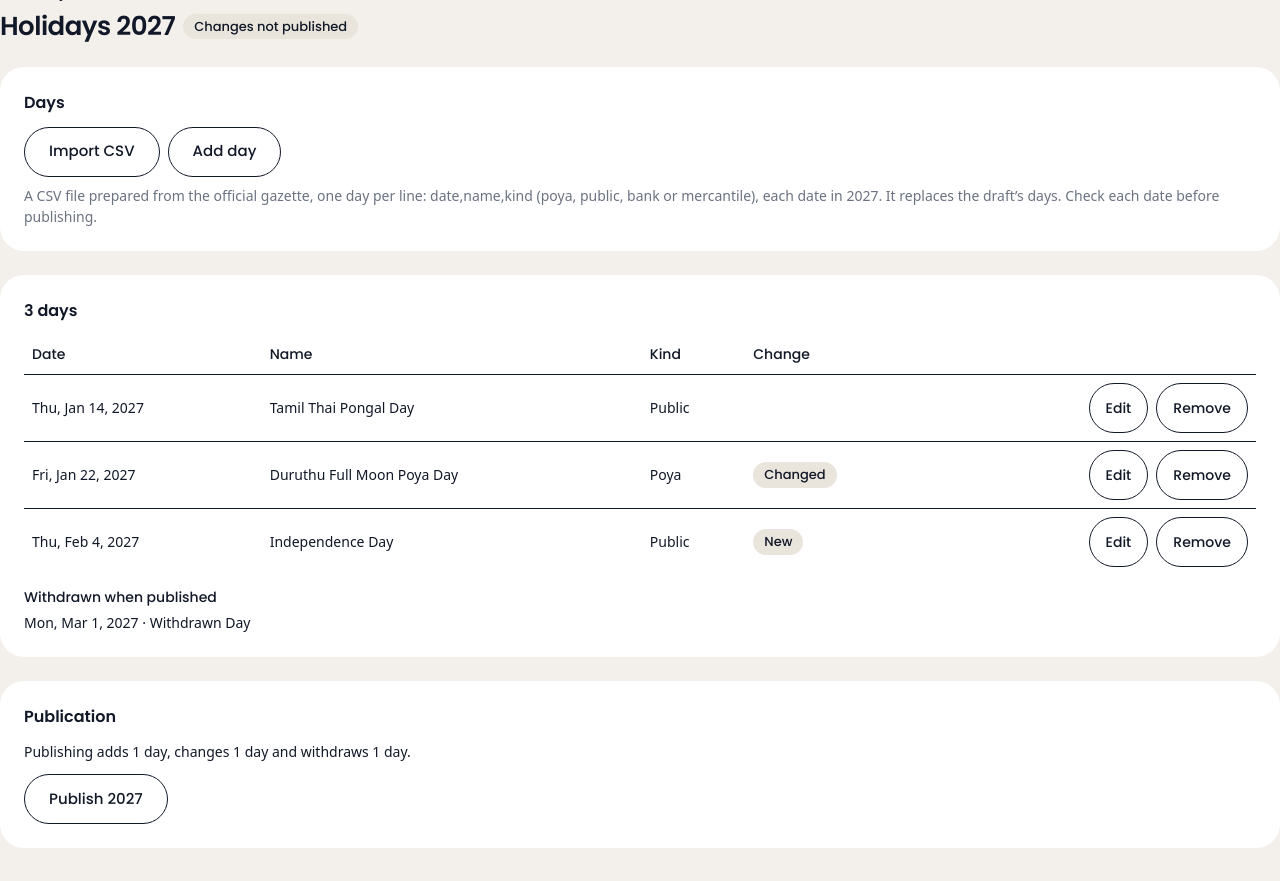
Test: the console holiday calendar (F04-S03) › shows the days in a table, what a publication changes, and publishes after the confirmation
The width and height of the screenshot is (1280, 881).
Expected: the number of rows with test id "console-holiday-day" is 3, [24,374,1256,442]; [24,442,1256,508]; [24,508,1256,575]
Expected: the text with test id "console-holiday-counts" reads "Publishing adds 1 day, changes 1 day and withdraws 1 day.", [24,742,411,761]
Click the button with test id "console-holiday-publish" at (96, 799), box [24,774,168,824]
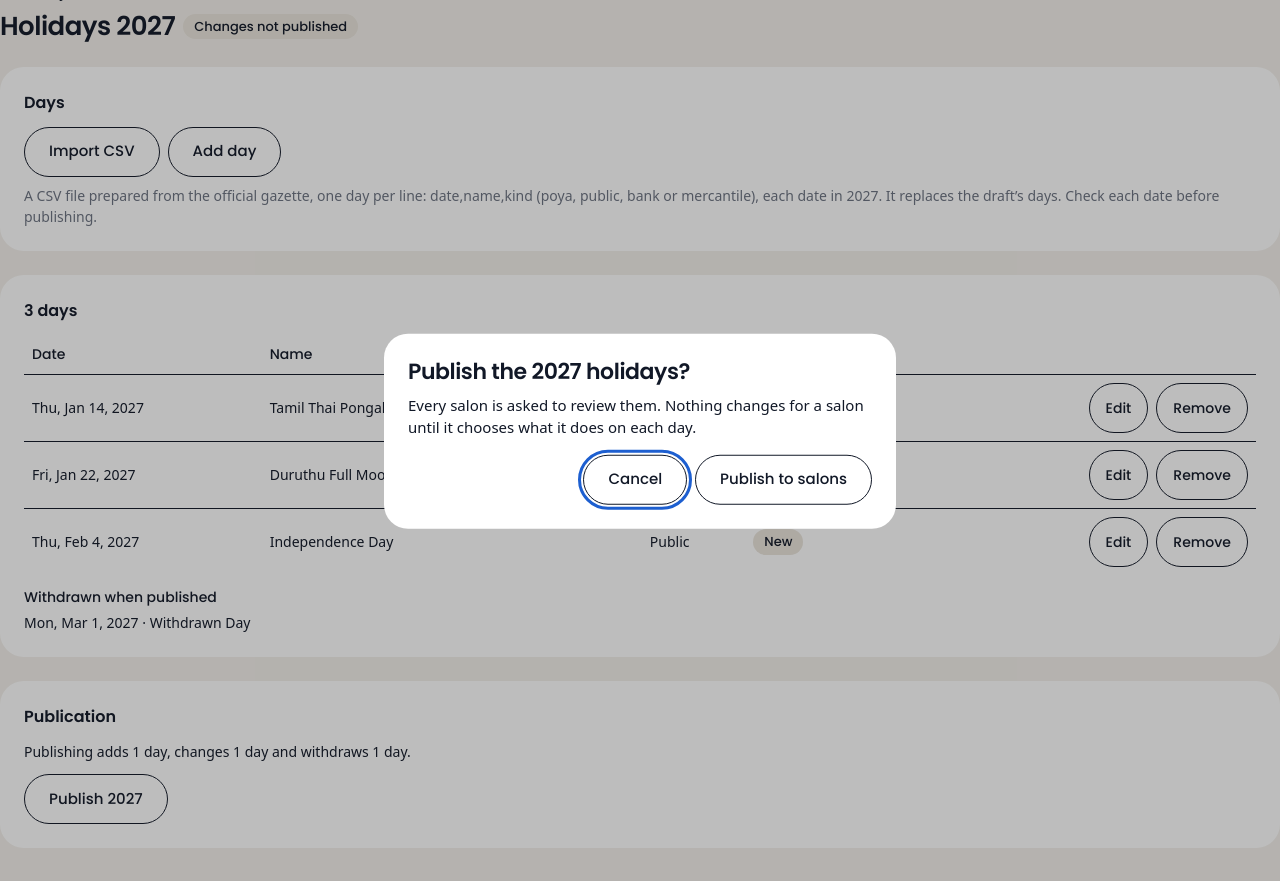
Result: the dialog with test id "console-holiday-publish-dialog" shows "Publish the 2027 holidays?" at [408,356,690,387]
Result: the dialog with test id "console-holiday-publish-dialog" shows "Every salon is asked to review them. Nothing changes for a salon until it chooses what it does on each day." at [408,394,864,437]
Click the button with test id "console-holiday-publish-confirm" at (784, 479), box [695,454,872,504]
(page scrolled)
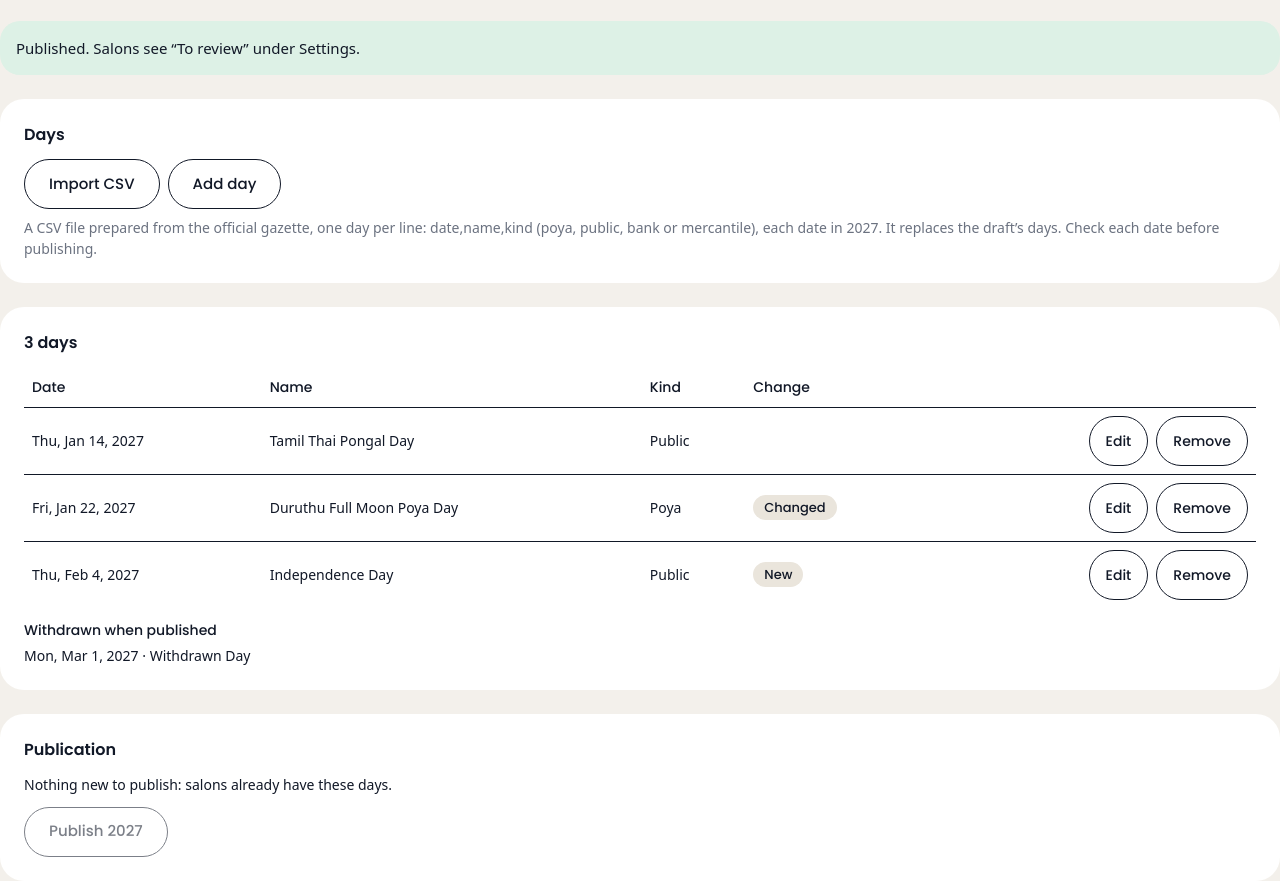
Result: the message with test id "console-holiday-done" shows "Published." at [16,38,360,58]
Result: the button with test id "console-holiday-publish" is disabled at [24,806,168,856]
